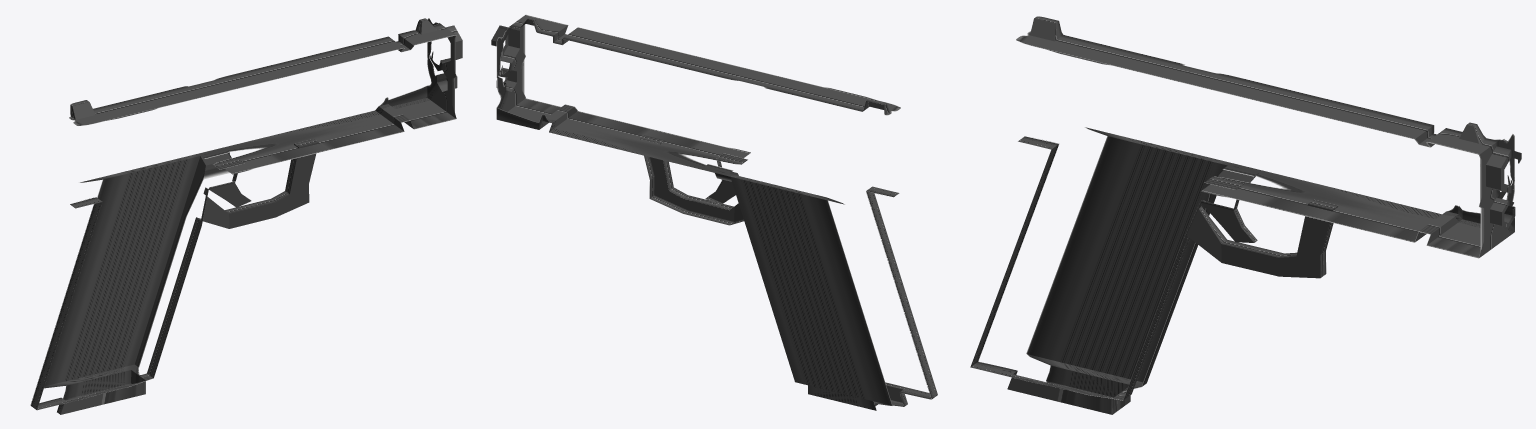
The model's file is pistola.fbx.
The picture shows the model from 3 angles, left to right: view 1: azimuth 30°, elevation 25°; view 2: azimuth 150°, elevation 25°; view 3: azimuth 330°, elevation 25°; orthographic projection. The views are drawn at different scales.
Parts seen in each view (by area): view 1: Cube; view 2: Cube; view 3: Cube.
Boxes of the visible parts, x1,y1,x2,y2 form: Cube: (30, 18, 462, 414); Cube: (491, 14, 937, 410); Cube: (970, 16, 1521, 414).
Size of the model in its own units: 23.44 by 15.76 by 2.84.
